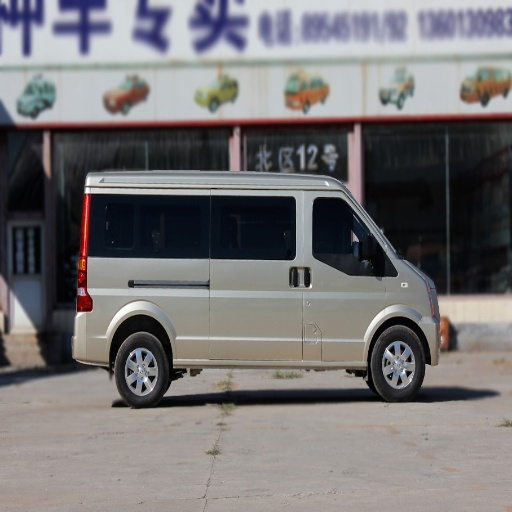back_right_door: (268, 272, 300, 354)
tailgate: (10, 50, 212, 125)
trunk: (77, 259, 256, 364), (132, 52, 371, 127)
